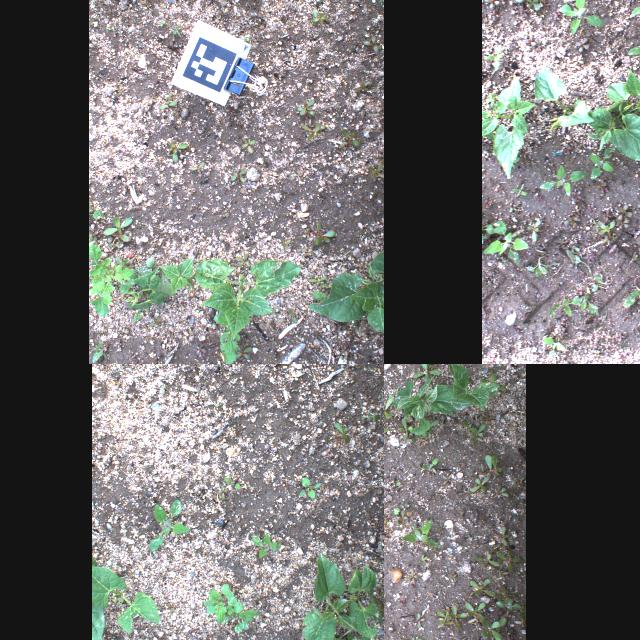crop: (194, 257, 300, 364), (305, 233, 384, 341), (392, 372, 472, 443), (482, 85, 534, 181), (588, 68, 640, 161), (302, 552, 356, 640), (92, 565, 158, 633), (88, 243, 134, 319), (535, 67, 589, 129), (119, 262, 170, 321), (446, 364, 506, 410), (347, 565, 377, 639), (484, 218, 528, 264), (538, 164, 588, 200), (557, 0, 602, 37), (159, 254, 193, 294), (91, 555, 103, 640), (572, 292, 598, 316), (590, 148, 612, 176), (540, 336, 566, 354), (622, 283, 640, 305), (548, 298, 570, 316), (626, 40, 640, 54), (630, 0, 640, 15)
weed: (148, 498, 188, 552), (220, 595, 260, 633), (202, 583, 234, 623), (402, 518, 440, 546), (102, 215, 132, 245), (304, 220, 334, 246), (250, 534, 282, 558), (496, 548, 522, 572), (482, 617, 506, 640), (525, 255, 549, 277), (444, 604, 466, 628), (477, 454, 501, 476), (166, 141, 188, 163), (300, 120, 324, 140), (368, 593, 384, 623), (412, 364, 440, 381), (470, 578, 496, 596), (342, 128, 361, 152), (299, 477, 321, 497), (464, 602, 486, 622), (492, 584, 512, 606), (496, 598, 520, 616), (334, 420, 351, 444), (310, 6, 330, 26), (486, 48, 502, 72), (397, 418, 413, 440), (476, 553, 500, 567), (296, 98, 314, 116), (470, 476, 490, 492), (470, 423, 486, 443), (310, 290, 336, 302), (88, 202, 104, 220), (228, 168, 248, 182), (91, 340, 105, 360), (495, 525, 509, 545), (367, 163, 384, 178), (362, 36, 380, 50), (596, 221, 614, 235), (436, 608, 450, 626), (326, 631, 353, 640), (234, 254, 254, 266), (526, 220, 538, 240), (241, 137, 255, 153), (114, 257, 130, 271), (616, 203, 630, 219), (492, 484, 508, 498), (422, 458, 438, 472), (232, 346, 250, 358), (222, 476, 240, 488), (384, 398, 394, 418), (192, 342, 206, 356), (412, 611, 424, 627), (522, 0, 539, 11), (397, 509, 408, 526), (461, 420, 474, 434), (308, 275, 326, 285), (592, 273, 602, 291), (217, 484, 227, 501), (512, 183, 526, 195), (616, 218, 630, 230), (496, 564, 508, 578), (394, 502, 408, 514), (188, 162, 204, 172), (157, 100, 177, 108), (360, 413, 380, 421), (578, 38, 590, 51), (332, 428, 343, 442), (522, 34, 534, 46), (356, 81, 370, 91), (300, 245, 314, 255), (406, 570, 416, 584), (428, 419, 438, 433), (88, 232, 95, 250), (280, 238, 292, 248), (595, 180, 605, 192), (572, 191, 582, 203), (572, 56, 584, 66), (418, 552, 428, 564), (489, 542, 501, 552), (288, 309, 296, 323), (150, 316, 160, 326), (442, 473, 452, 483), (351, 316, 357, 332), (164, 92, 172, 104), (518, 5, 526, 17), (172, 24, 180, 34), (166, 602, 174, 612), (401, 636, 421, 640), (484, 0, 492, 8), (376, 588, 384, 596), (391, 480, 401, 486), (242, 34, 250, 41), (214, 402, 222, 408), (494, 0, 504, 4), (537, 0, 542, 6), (104, 26, 110, 30)
